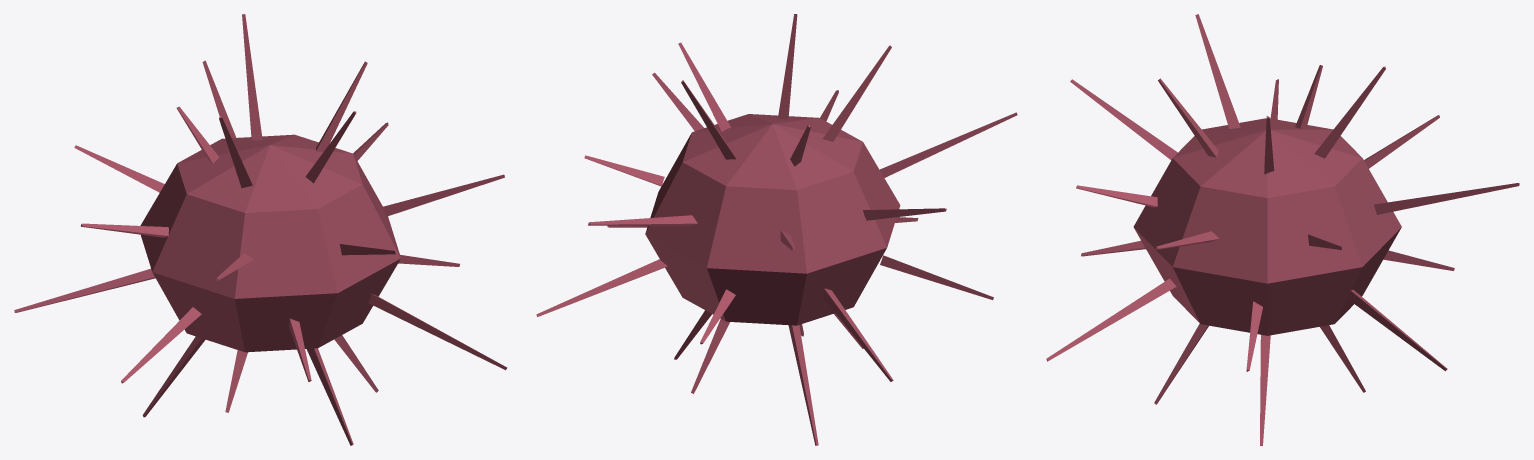
Rendered from red_urchin.glb.
3 renders of one model, left to right at view 1: azimuth 30°, elevation 25°; view 2: azimuth 150°, elevation 25°; view 3: azimuth 270°, elevation 25°, orthographic. The views are drawn at different scales.
Visible parts, largest first — view 1: red_urchin; view 2: red_urchin; view 3: red_urchin.
Boxes of the visible parts, box(x1,y1,x2,y2) form: red_urchin: box(14, 14, 507, 445); red_urchin: box(536, 14, 1017, 445); red_urchin: box(1046, 14, 1519, 445).
Bounding box in the file's own units: 0.2512 × 0.2346 × 0.282.
